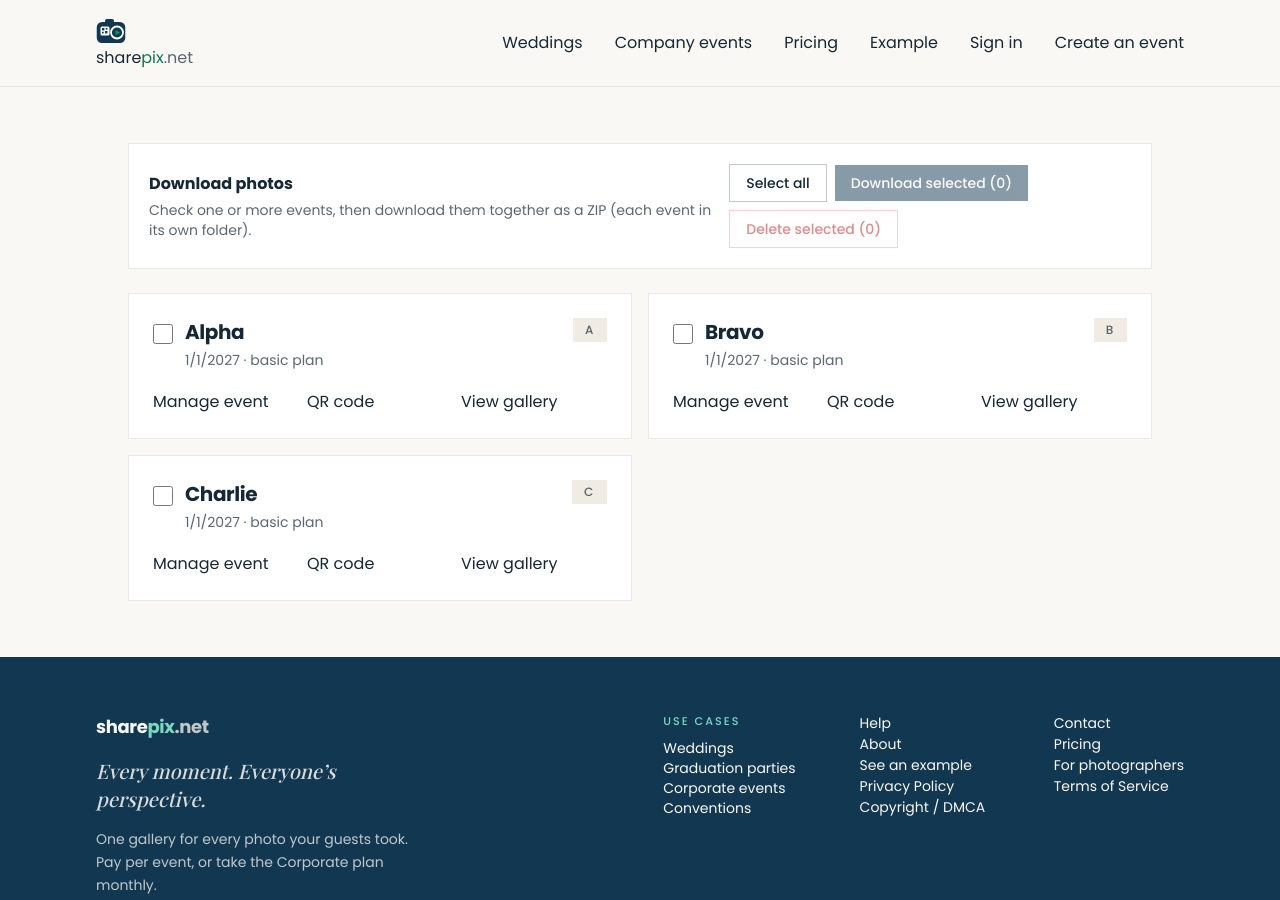
Test case: My events: Delete selected › uses the existing checkboxes, and is disabled until something is selected
Expected: the heading "Alpha" is shown, [185, 318, 244, 346]
Expected: the number of checkboxes is 3, [153, 324, 173, 344]; [673, 324, 693, 344]; [153, 486, 173, 506]
Click the button "Select all" at [778, 183], box [729, 164, 827, 202]
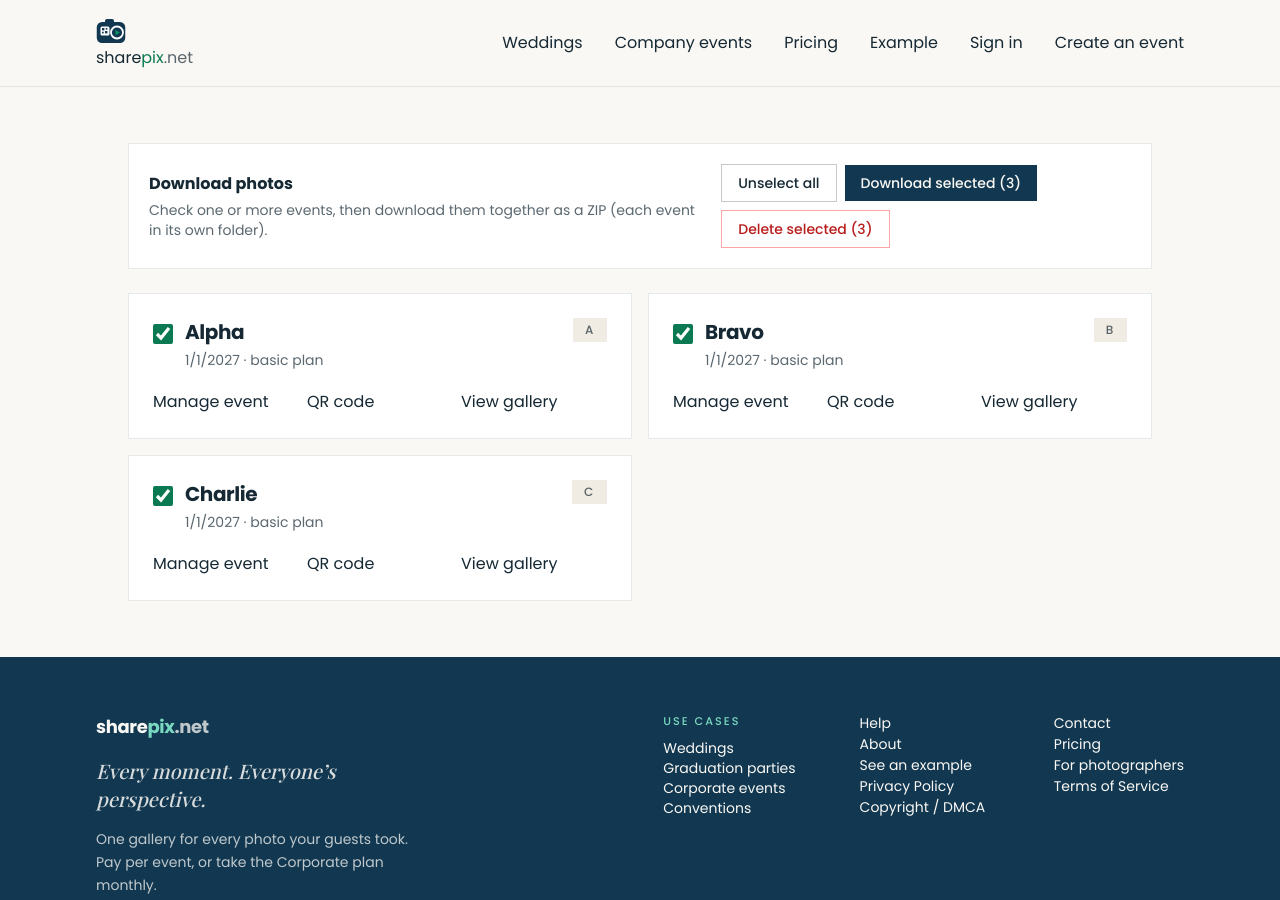
Expected: the button "Delete selected (3)" is shown, [721, 210, 890, 248]
Expected: the button "Download selected (3)" is shown, [844, 165, 1037, 201]
